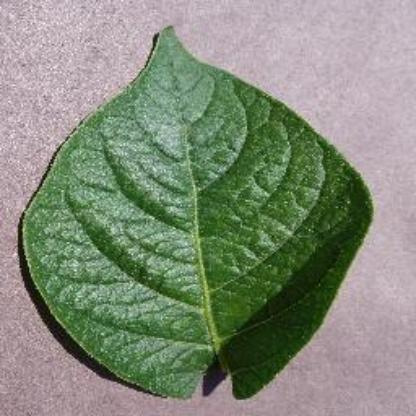Healthy-plant: (14, 23, 370, 400)
